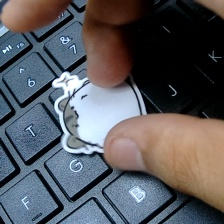mouse: (46, 70, 164, 158)
